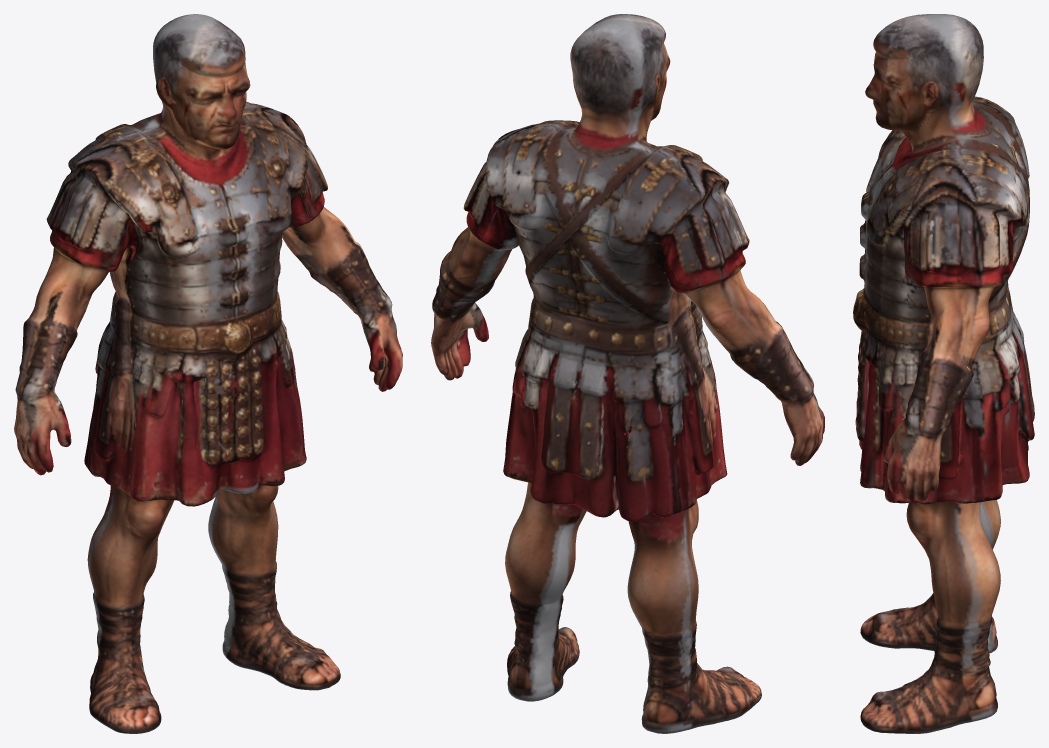
The model's file is Gaius_for_mixamo.fbx.
The picture shows the model from 3 angles, left to right: view 1: azimuth 30°, elevation 25°; view 2: azimuth 150°, elevation 25°; view 3: azimuth 270°, elevation 25°; orthographic projection.
Parts seen in each view (by area): view 1: Gaius; view 2: Gaius; view 3: Gaius.
Part boxes in pixels (left/top/right/bottom): Gaius: left=14, top=14, right=402, bottom=733; Gaius: left=431, top=14, right=824, bottom=733; Gaius: left=853, top=14, right=1034, bottom=733.
Size of the model in its own units: 108 by 180 by 44.87.
1 material, 1 textured.
